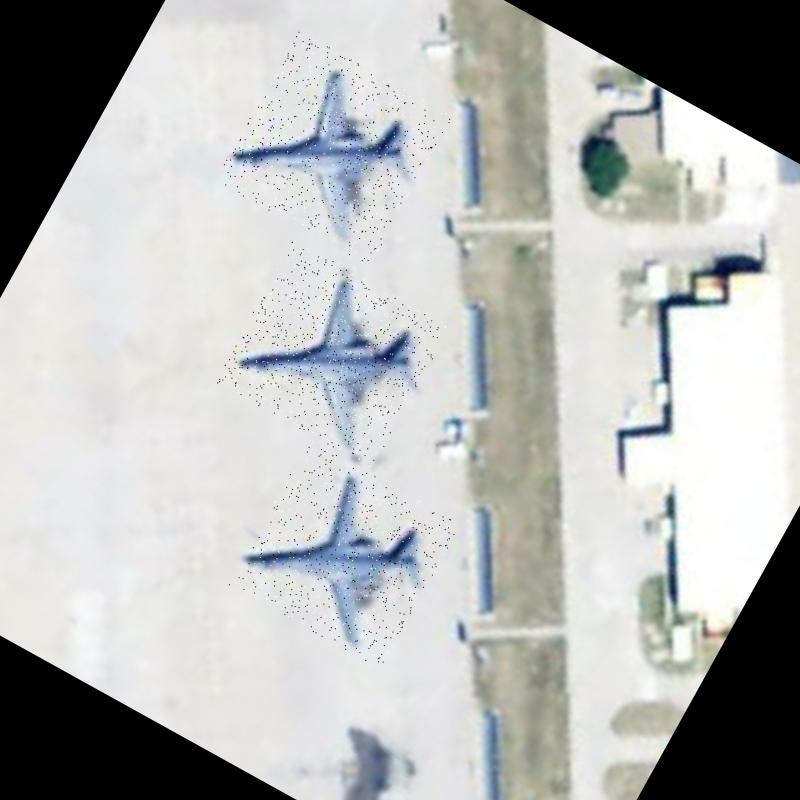A10: (214, 30, 453, 266), (214, 239, 450, 469), (228, 439, 461, 670)
